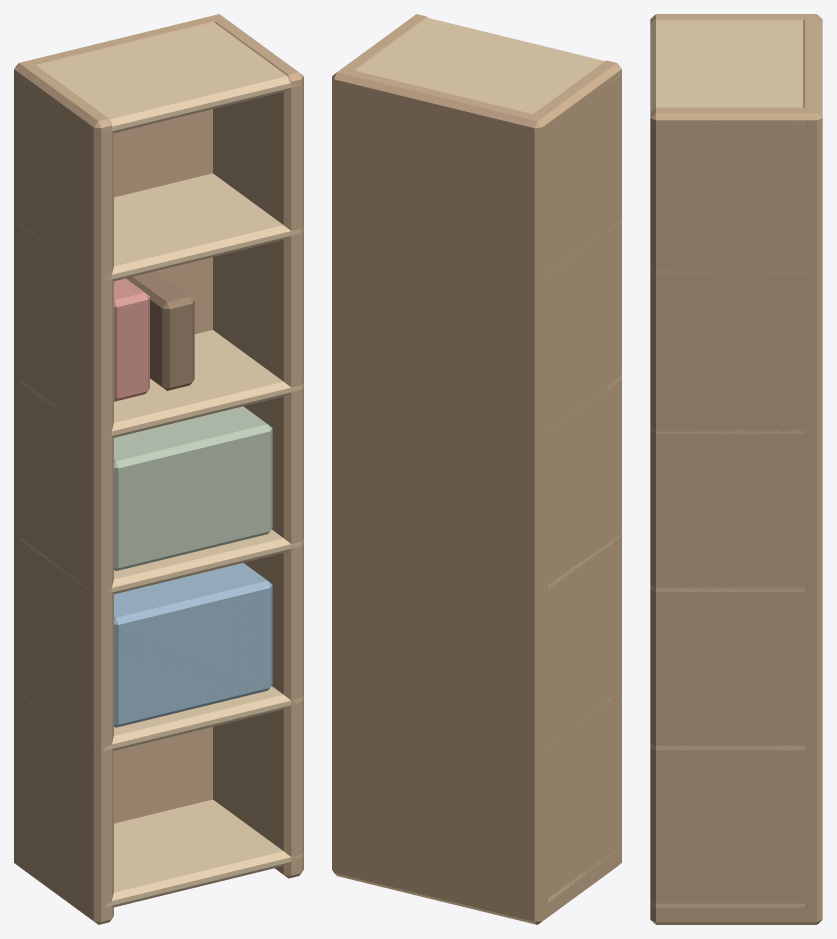
File: VerticalStorageTower.glb
3 views of the same model, side by side, from view 1: azimuth 30°, elevation 25°; view 2: azimuth 150°, elevation 25°; view 3: azimuth 270°, elevation 25° (orthographic).
Visible parts, largest first — view 1: SpaceSaver_VerticalStorageTower; view 2: SpaceSaver_VerticalStorageTower; view 3: SpaceSaver_VerticalStorageTower.
Part boxes in pixels (box(x1,y1,x2,y2)): SpaceSaver_VerticalStorageTower: box(14, 14, 303, 924); SpaceSaver_VerticalStorageTower: box(332, 14, 621, 924); SpaceSaver_VerticalStorageTower: box(650, 14, 822, 924).
Size of the model in its own units: 0.52 by 1.9 by 0.365.
